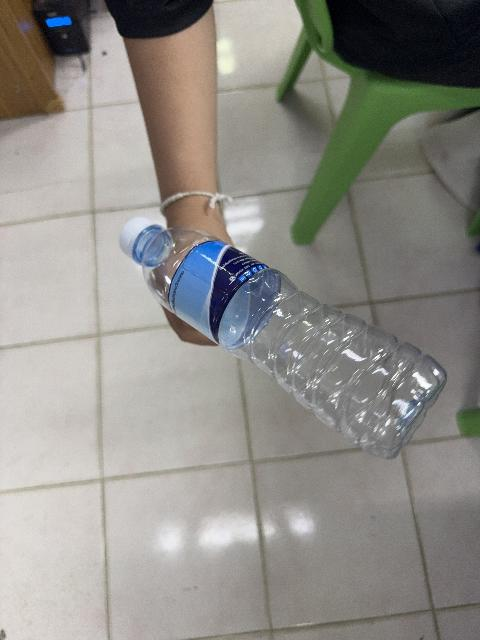bottle: (120, 218, 446, 458)
